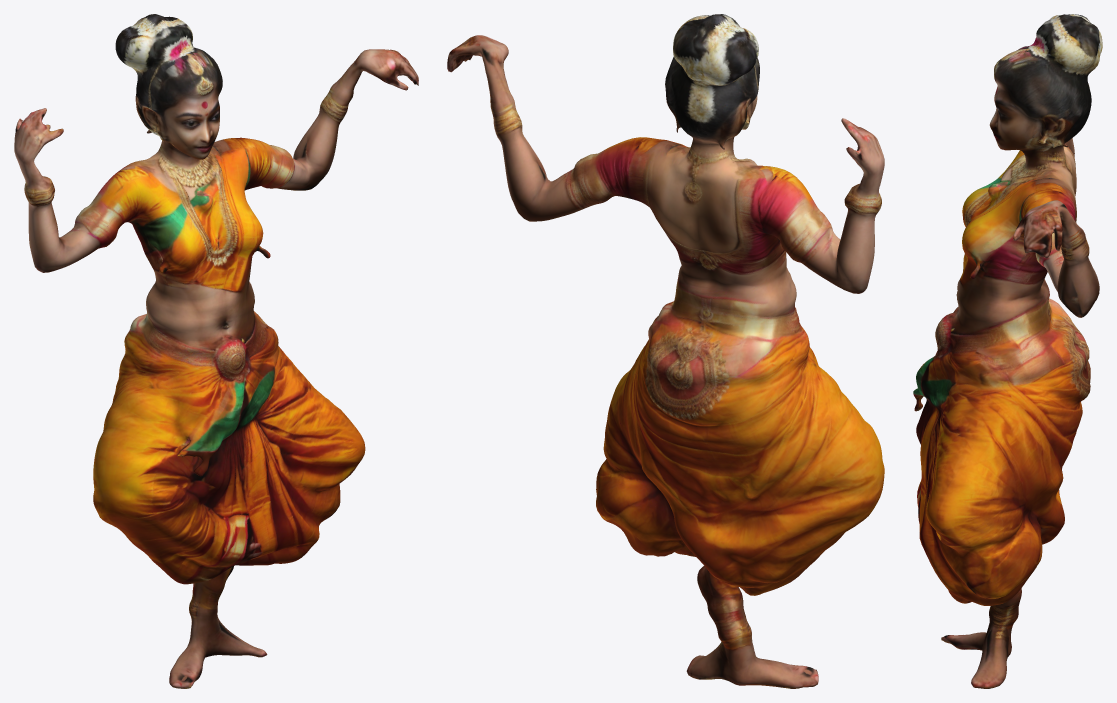
3 renders of one model, left to right at view 1: azimuth 30°, elevation 25°; view 2: azimuth 150°, elevation 25°; view 3: azimuth 270°, elevation 25°, orthographic. The views are drawn at different scales.
Size of the model in its own units: 1.3 by 2 by 0.5333.
1 material, 1 textured.
